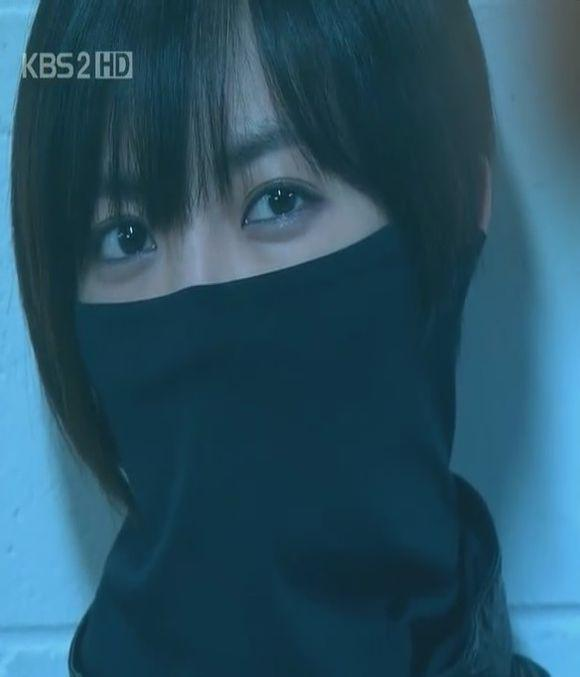OK: (47, 116, 418, 487)
